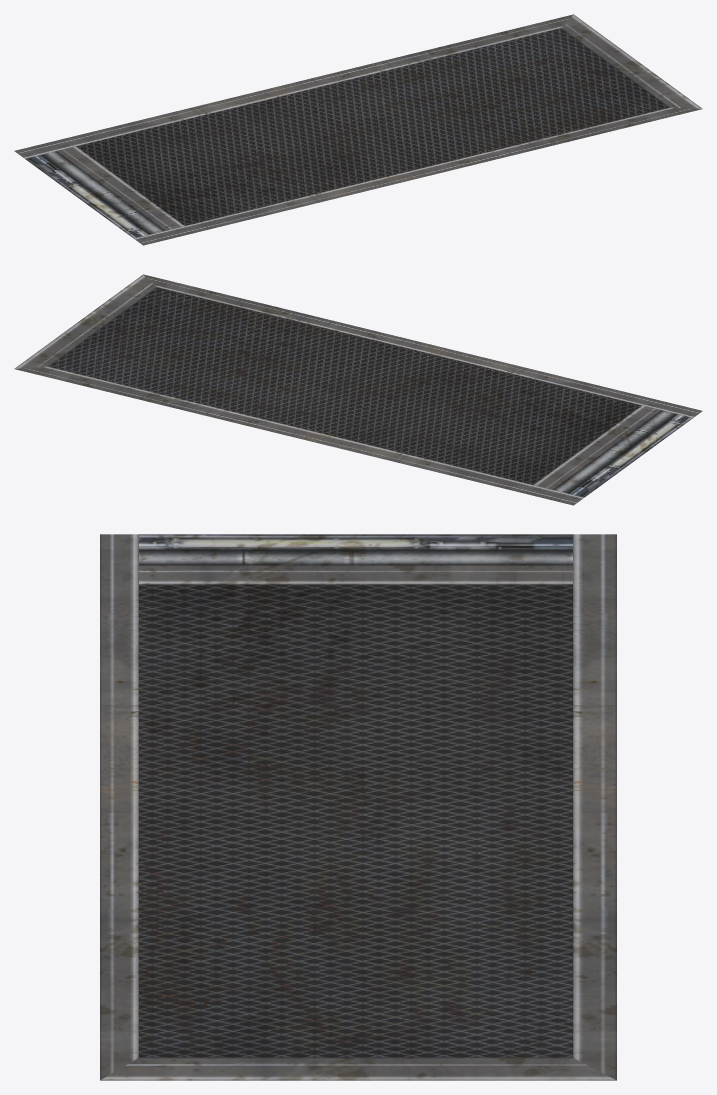
File: Floor_A_5mts_04.fbx
3 renders of one model, top to bottom at view 1: azimuth 30°, elevation 25°; view 2: azimuth 150°, elevation 25°; view 3: azimuth 270°, elevation 25°, orthographic. The views are drawn at different scales.
Visible parts, largest first — view 1: Floor_A_5mts_04; view 2: Floor_A_5mts_04; view 3: Floor_A_5mts_04.
Boxes of the visible parts, <box> form: Floor_A_5mts_04: <box>14,14,702,245</box>; Floor_A_5mts_04: <box>14,274,702,505</box>; Floor_A_5mts_04: <box>100,534,616,1080</box>.
Size of the model in its own units: 250 by 2.66e-05 by 100.
1 material, 1 textured.
